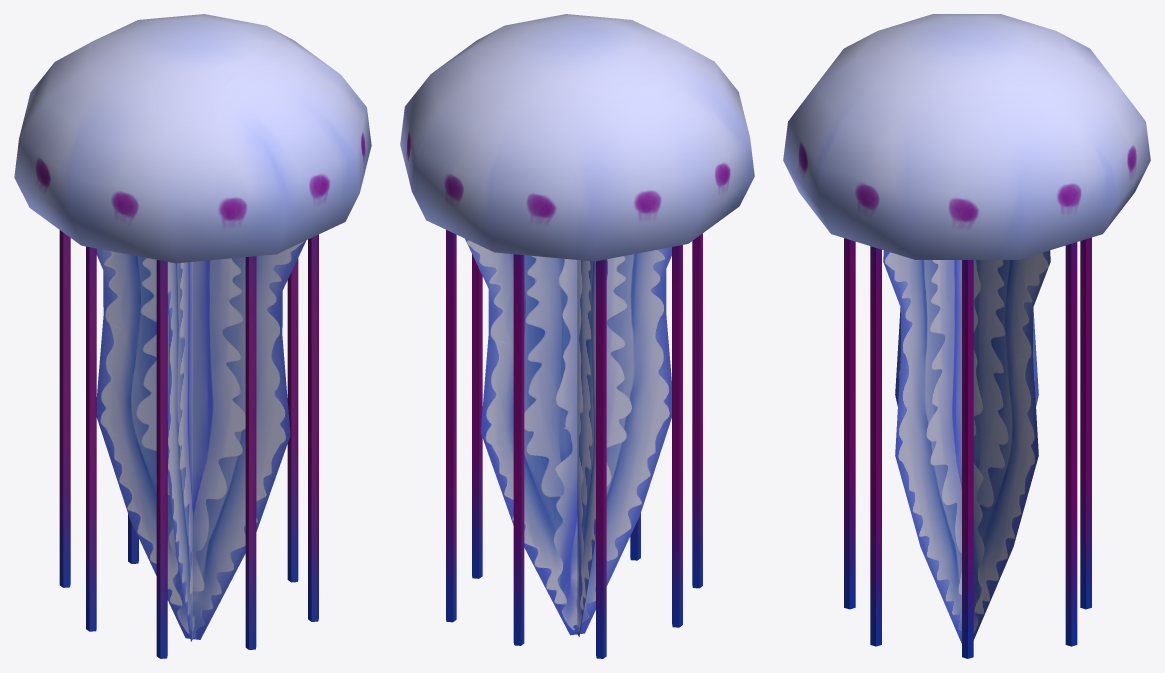
File: jellyfish1.fbx
3 views of the same model, side by side, from view 1: azimuth 30°, elevation 25°; view 2: azimuth 150°, elevation 25°; view 3: azimuth 270°, elevation 25° (orthographic).
Visible parts, largest first — view 1: polySurface1; view 2: polySurface1; view 3: polySurface1.
Part boxes in pixels (bbox=[...]): polySurface1: bbox=[14, 14, 371, 658]; polySurface1: bbox=[400, 14, 754, 658]; polySurface1: bbox=[783, 14, 1150, 658].
Size of the model in its own units: 1.79 by 3.43 by 1.88.
1 material, 1 textured.
